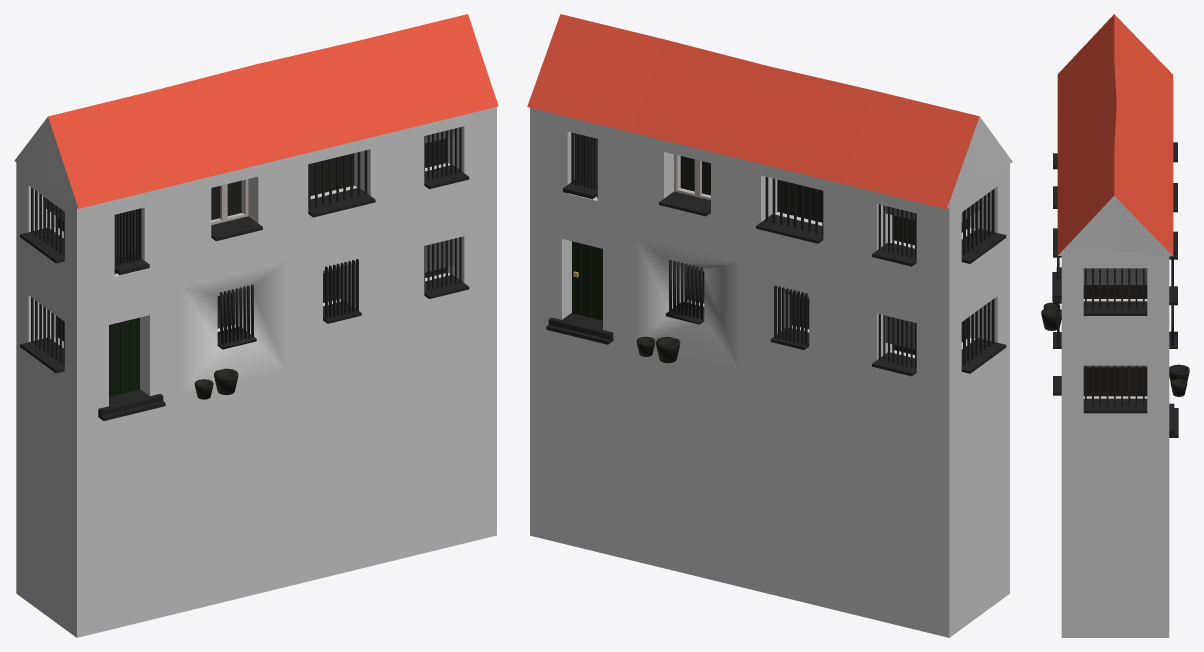
Rendered from casa procedural_relleno_Con sotano_4.fbx.
3 views of the same model, side by side, from view 1: azimuth 30°, elevation 25°; view 2: azimuth 150°, elevation 25°; view 3: azimuth 270°, elevation 25° (orthographic). The views are drawn at different scales.
Visible parts, largest first — view 1: Procedural_Building_straight.001; view 2: Procedural_Building_straight.001; view 3: Procedural_Building_straight.001.
Part boxes in pixels (bbox=[...]): Procedural_Building_straight.001: bbox=[14, 14, 498, 637]; Procedural_Building_straight.001: bbox=[527, 14, 1012, 637]; Procedural_Building_straight.001: bbox=[1041, 14, 1189, 637].
Size of the model in its own units: 416 by 455 by 138.
